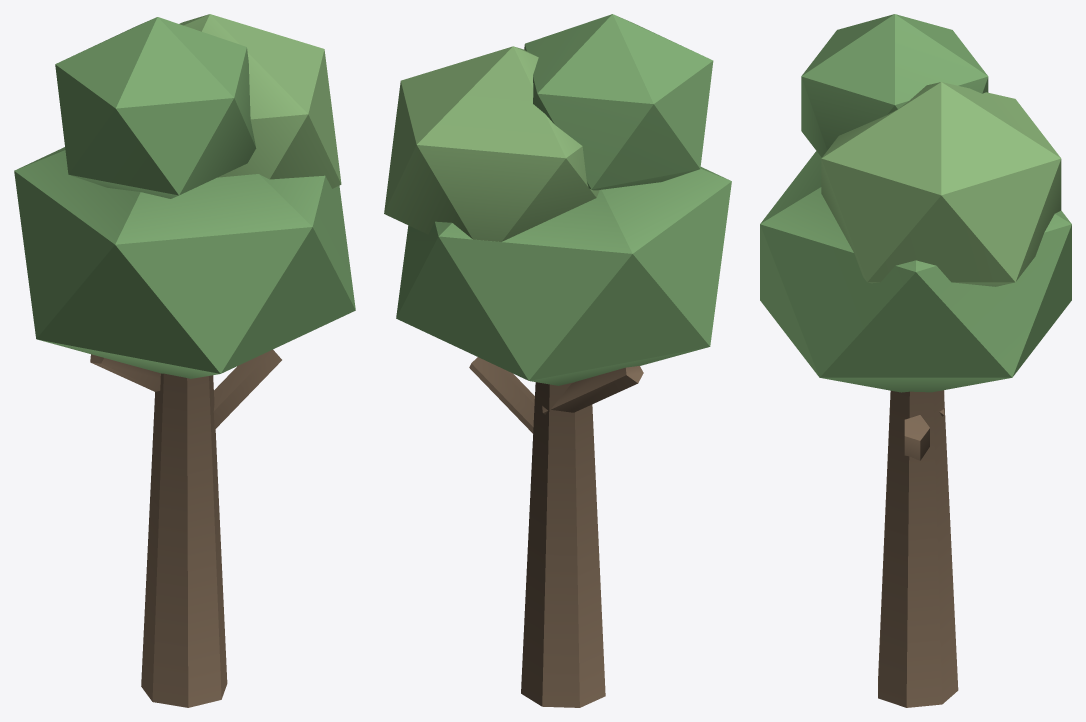
The model's file is tree.glb.
The picture shows the model from 3 angles, left to right: view 1: azimuth 30°, elevation 25°; view 2: azimuth 150°, elevation 25°; view 3: azimuth 270°, elevation 25°; orthographic projection. The views are drawn at different scales.
Visible parts, largest first — view 1: tree; view 2: tree; view 3: tree.
Part boxes in pixels (<box>): tree: <box>14,14,355,707</box>; tree: <box>384,14,731,707</box>; tree: <box>760,14,1071,707</box>.
Bounding box in the file's own units: 2.36 × 5.15 × 2.21.
